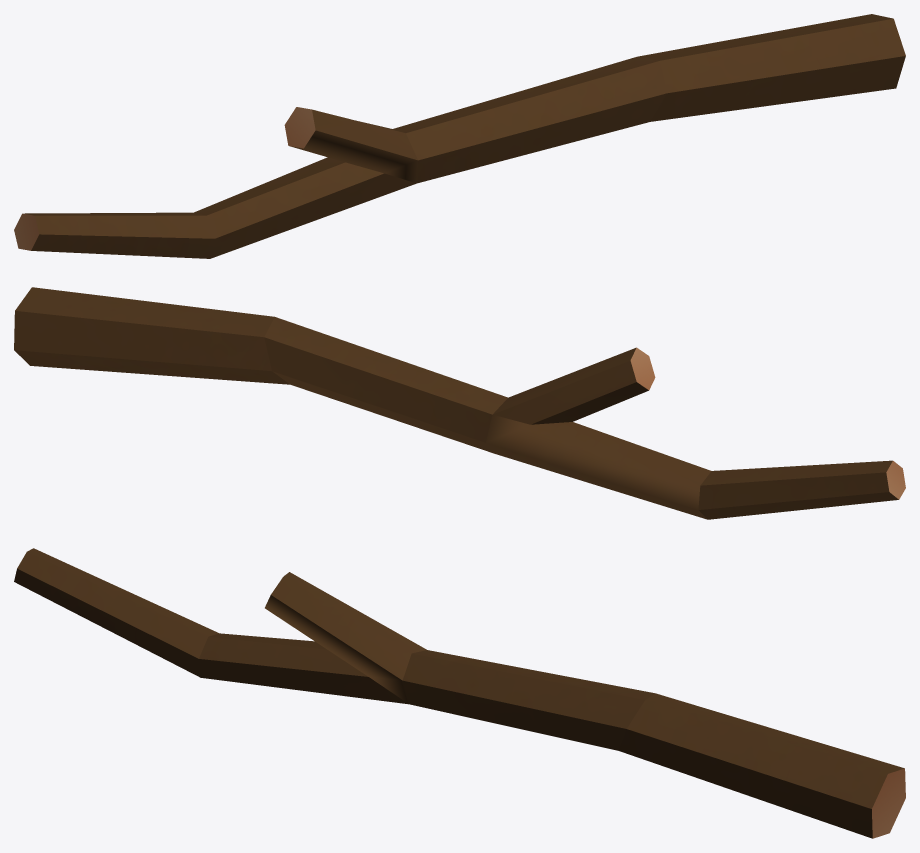
Rendered from Branch_3.fbx.
The picture shows the model from 3 angles, top to bottom: view 1: azimuth 30°, elevation 25°; view 2: azimuth 150°, elevation 25°; view 3: azimuth 330°, elevation 25°; orthographic projection. The views are drawn at different scales.
Visible parts, largest first — view 1: Branch_3; view 2: Branch_3; view 3: Branch_3.
Part boxes in pixels (x1,y1,x2,y2): Branch_3: (14,14,905,258); Branch_3: (14,287,905,519); Branch_3: (14,548,905,838).
Size of the model in its own units: 0.3564 by 0.0545 by 0.0371.
Materials: 1 (1 with a texture image).
